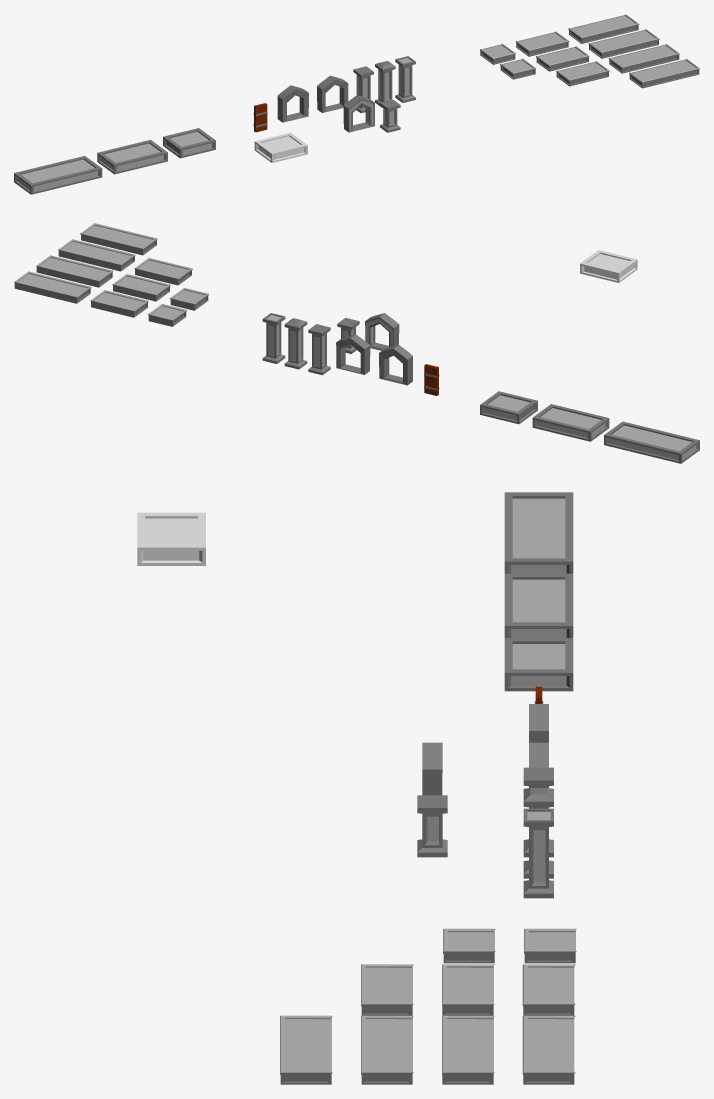
The model's file is Castle Assets.fbx.
3 views of the same model, one above another, from view 1: azimuth 30°, elevation 25°; view 2: azimuth 150°, elevation 25°; view 3: azimuth 270°, elevation 25° (orthographic). The views are drawn at different scales.
Parts seen in each view (by area): view 1: Cube.020, Cube.019, Cube.014, Cube.010, Cube.002, Cube.008, Cube.018, Cube.017, Cube.001, Cube.012, Cube.011, Cube.004 (+9 smaller); view 2: Cube.020, Cube.019, Cube.008, Cube.010, Cube.002, Cube.014, Cube.017, Cube.018, Cube.012, Cube.001, Cube.011, Cube.004 (+9 smaller); view 3: Cube.020, Cube.019, Cube.017, Cube.018, Cube.002, Cube.008, Cube.010, Cube.014, Cube.001, Cube.011, Cube.012, Cube.006 (+4 smaller).
Boxes of the visible parts, bbox=[...] form: Cube.020: bbox=[14, 156, 102, 194]; Cube.019: bbox=[97, 139, 167, 174]; Cube.014: bbox=[629, 58, 699, 88]; Cube.010: bbox=[608, 44, 679, 73]; Cube.002: bbox=[568, 14, 639, 43]; Cube.008: bbox=[588, 29, 659, 58]; Cube.018: bbox=[254, 132, 307, 162]; Cube.017: bbox=[163, 128, 215, 158]; Cube.001: bbox=[515, 31, 569, 56]; Cube.012: bbox=[556, 61, 609, 86]; Cube.011: bbox=[536, 46, 589, 71]; Cube.004: bbox=[277, 85, 308, 122]; Cube.020: bbox=[604, 421, 699, 463]; Cube.019: bbox=[532, 404, 609, 441]; Cube.008: bbox=[36, 255, 113, 287]; Cube.010: bbox=[58, 239, 135, 271]; Cube.002: bbox=[14, 271, 91, 303]; Cube.014: bbox=[80, 223, 157, 255]; Cube.017: bbox=[480, 391, 537, 424]; Cube.018: bbox=[580, 250, 637, 282]; Cube.012: bbox=[134, 258, 192, 285]; Cube.001: bbox=[90, 290, 148, 317]; Cube.011: bbox=[112, 274, 170, 301]; Cube.004: bbox=[379, 344, 412, 385]; Cube.020: bbox=[504, 492, 573, 573]; Cube.019: bbox=[504, 573, 573, 637]; Cube.017: bbox=[504, 638, 573, 691]; Cube.018: bbox=[137, 512, 205, 565]; Cube.002: bbox=[522, 1015, 575, 1084]; Cube.008: bbox=[442, 1015, 494, 1084]; Cube.010: bbox=[361, 1015, 413, 1084]; Cube.014: bbox=[280, 1015, 332, 1084]; Cube.001: bbox=[522, 964, 575, 1015]; Cube.011: bbox=[442, 964, 494, 1015]; Cube.012: bbox=[361, 964, 413, 1015]; Cube.006: bbox=[523, 808, 553, 898].
Size of the model in its own units: 13981 by 1645 by 4344.
